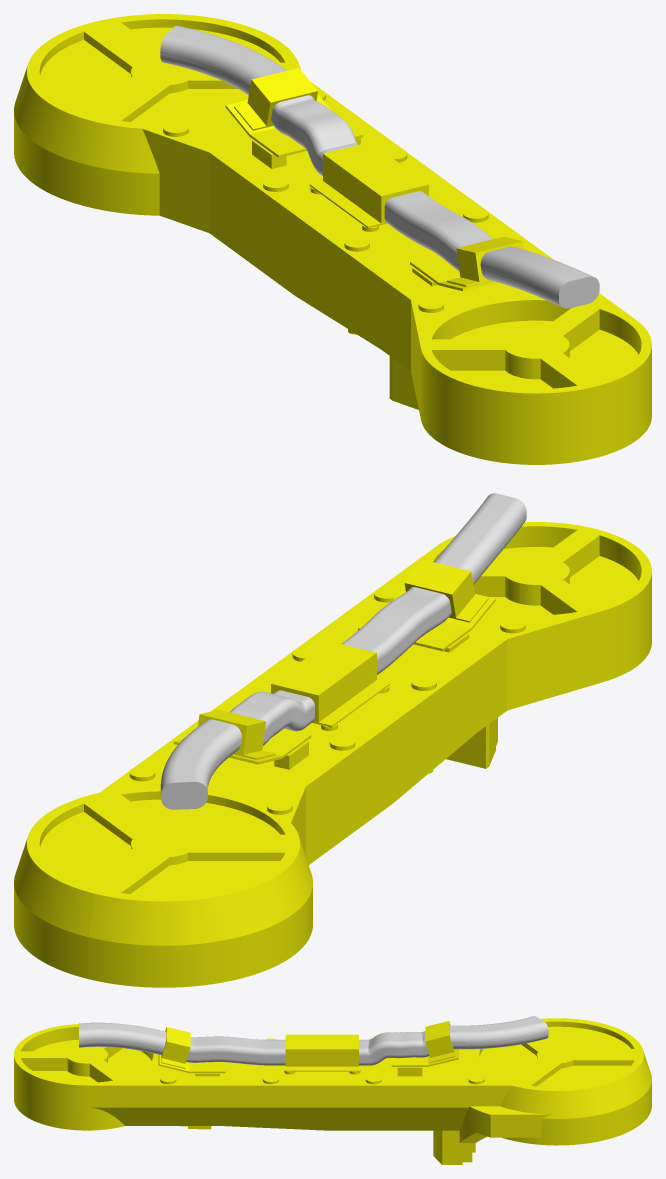
3 views of the same model, one above another, from view 1: azimuth 30°, elevation 25°; view 2: azimuth 150°, elevation 25°; view 3: azimuth 270°, elevation 25° (orthographic). The views are drawn at different scales.
Visible parts, largest first — view 1: Mesh_0; view 2: Mesh_0; view 3: Mesh_0.
Boxes of the visible parts, <box> form: Mesh_0: <box>14,14,651,464</box>; Mesh_0: <box>14,493,651,987</box>; Mesh_0: <box>14,1016,651,1164</box>.
Size of the model in its own units: 0.3489 by 0.2526 by 1.18.
